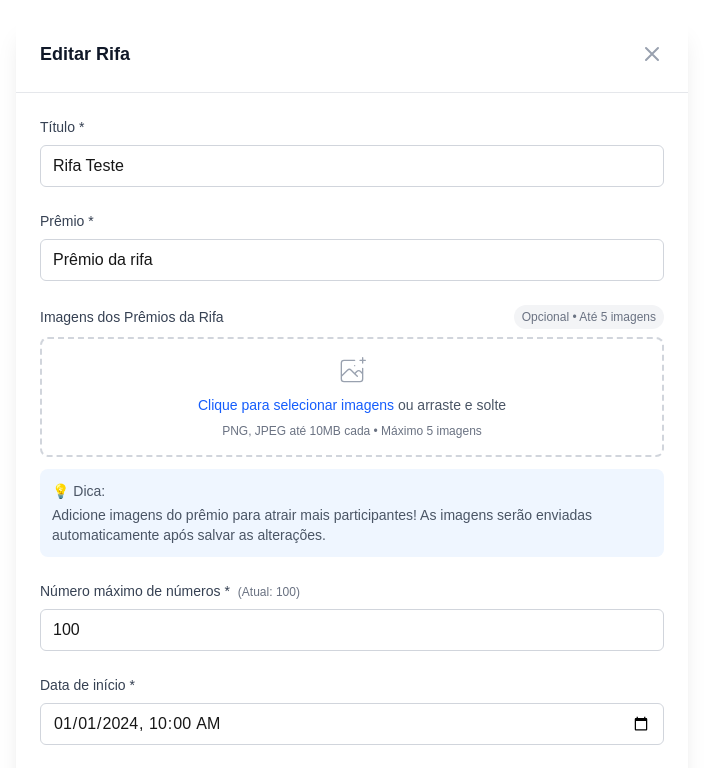
Test case: RaffleEditModal - Incremento de Números › deve exibir mensagem de erro se o incremento falhar
The width and height of the screenshot is (705, 768).
Replace the text in the number field labelled "Número máximo de números *(Atual: 100)" with "150". click: {"x": 352, "y": 630}
box: [40,609,664,651]
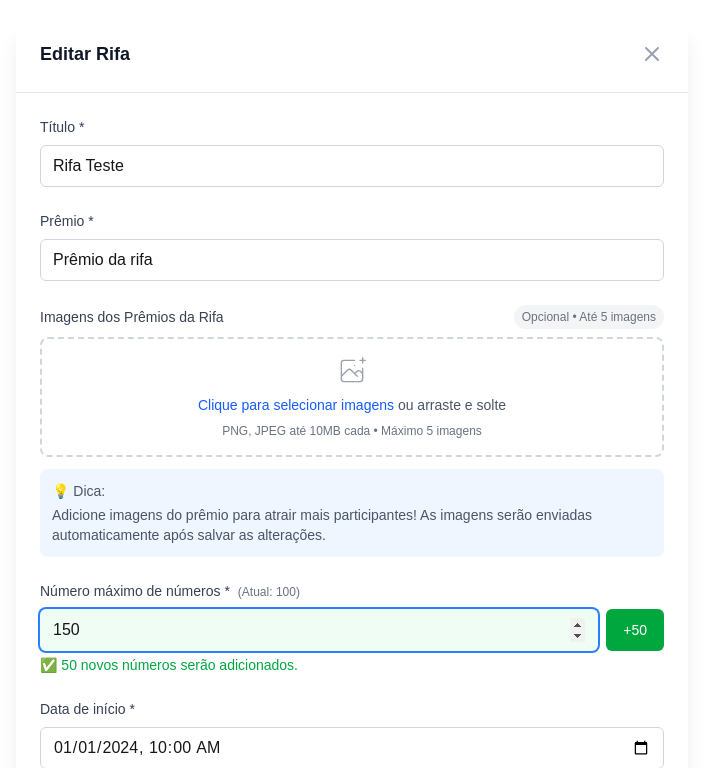
Click the button "+50". click: {"x": 635, "y": 630}
box: [606,609,664,651]
(page scrolled)
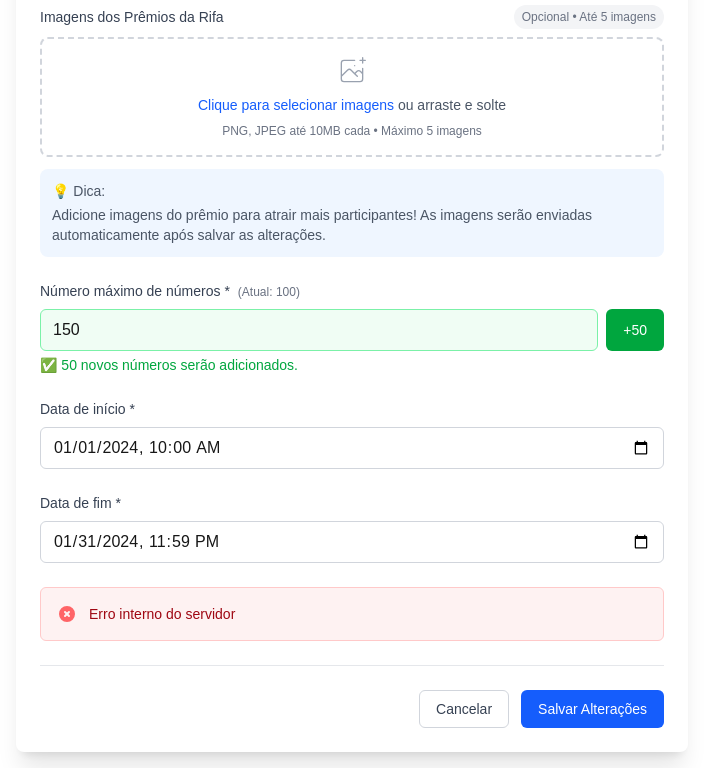
Now the text "Erro interno do servidor" is shown, box [89,604,235,624]
